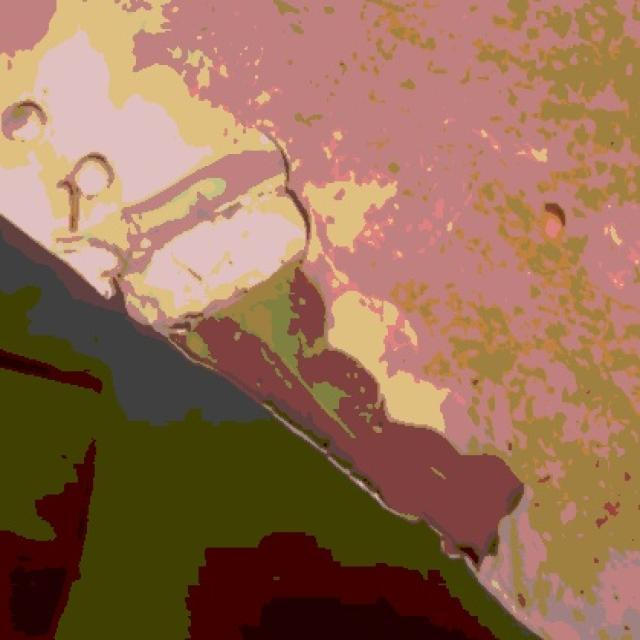crack: (267, 145, 316, 248)
